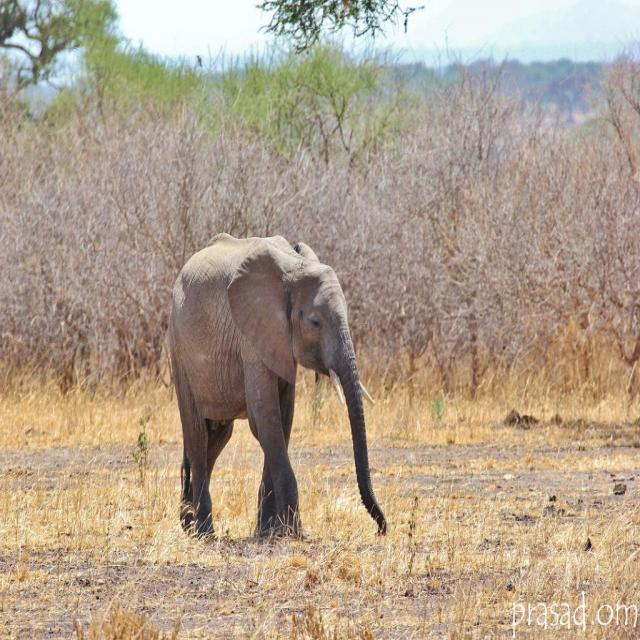Elephant: (156, 226, 392, 551)
